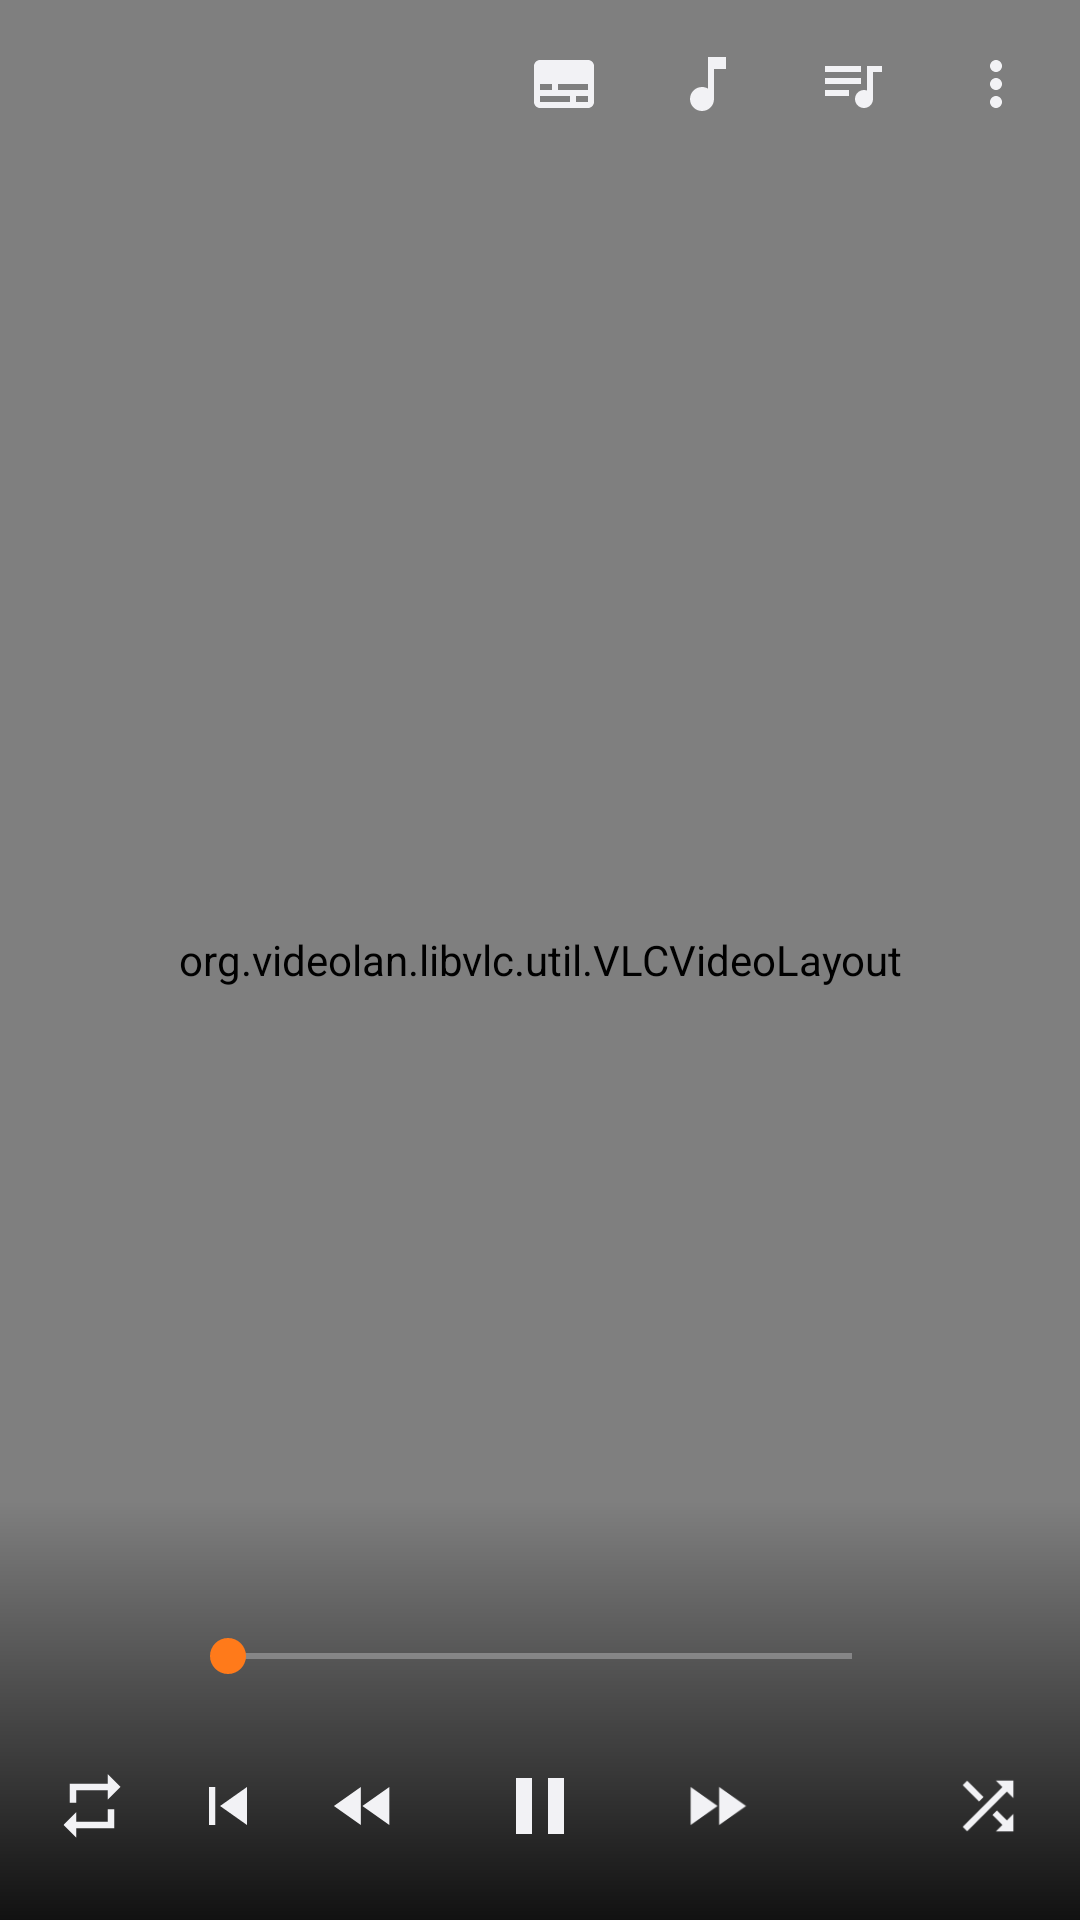

Locate icon controls on the screen. Image size 1080x1920, boxes as (x1, y1, x2, y2).
More: (990, 60, 1002, 108)
Playlist: (825, 66, 882, 108)
Sound track: (690, 57, 726, 111)
Subtitles: (534, 60, 594, 108)
